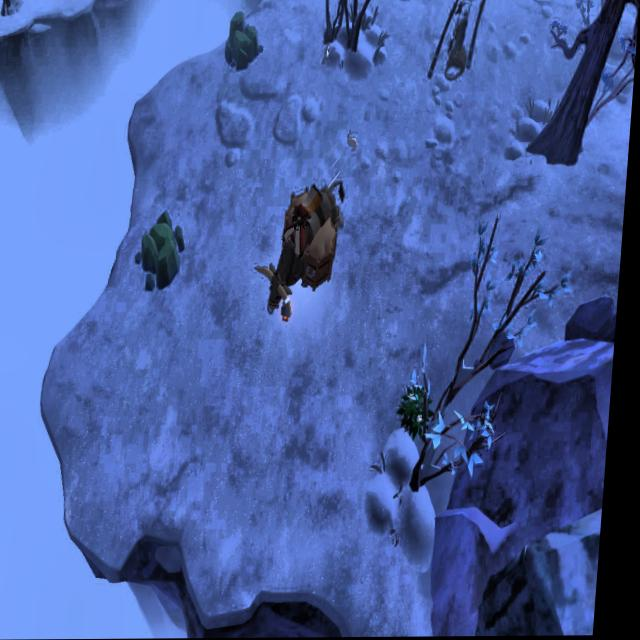fiber_t3: (402, 382, 439, 439)
rock_t3: (135, 209, 191, 292), (223, 7, 265, 74)
